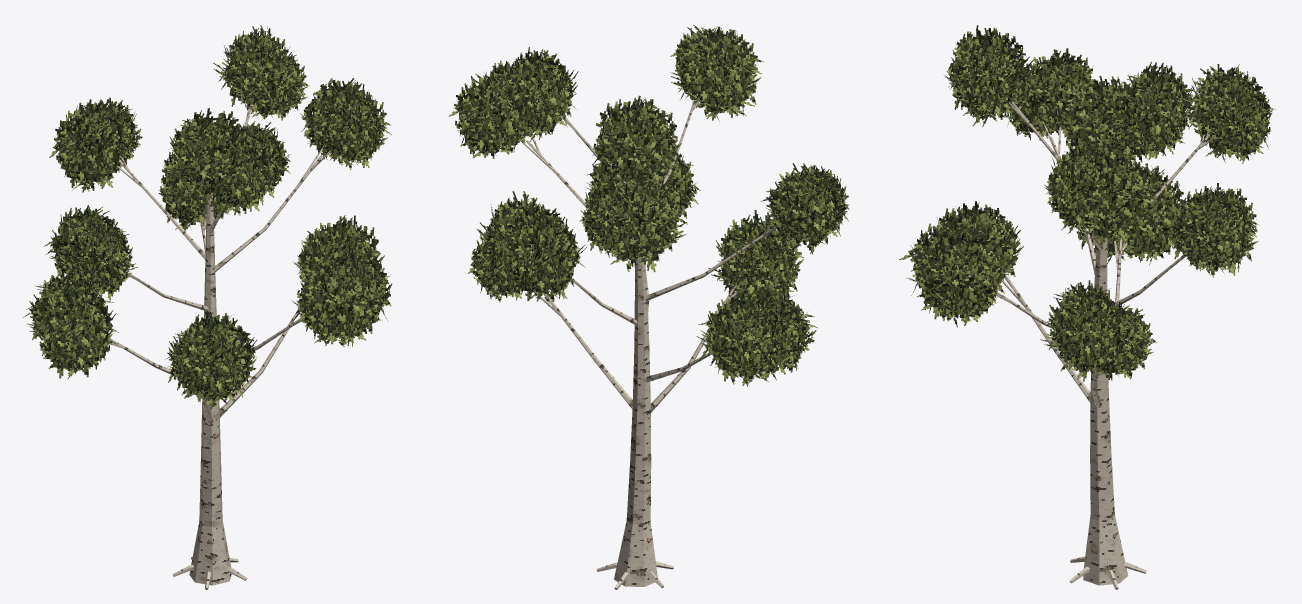
The model's file is TREE_Birch_Green_C.glb.
3 views of the same model, side by side, from view 1: azimuth 30°, elevation 25°; view 2: azimuth 150°, elevation 25°; view 3: azimuth 270°, elevation 25° (orthographic). The views are drawn at different scales.
Parts seen in each view (by area): view 1: TREE_Birch_Green_C__Card, TREE_Birch_Green_C__Bark; view 2: TREE_Birch_Green_C__Card, TREE_Birch_Green_C__Bark; view 3: TREE_Birch_Green_C__Card, TREE_Birch_Green_C__Bark.
Part boxes in pixels (x1,y1,x2,y2): TREE_Birch_Green_C__Card: (23,25,392,409); TREE_Birch_Green_C__Bark: (107,99,331,589); TREE_Birch_Green_C__Card: (448,24,849,386); TREE_Birch_Green_C__Bark: (519,94,778,589); TREE_Birch_Green_C__Card: (899,25,1275,381); TREE_Birch_Green_C__Bark: (993,102,1214,589).
Size of the model in its own units: 7.26 by 9.76 by 6.39.
3 materials, 3 textured.
